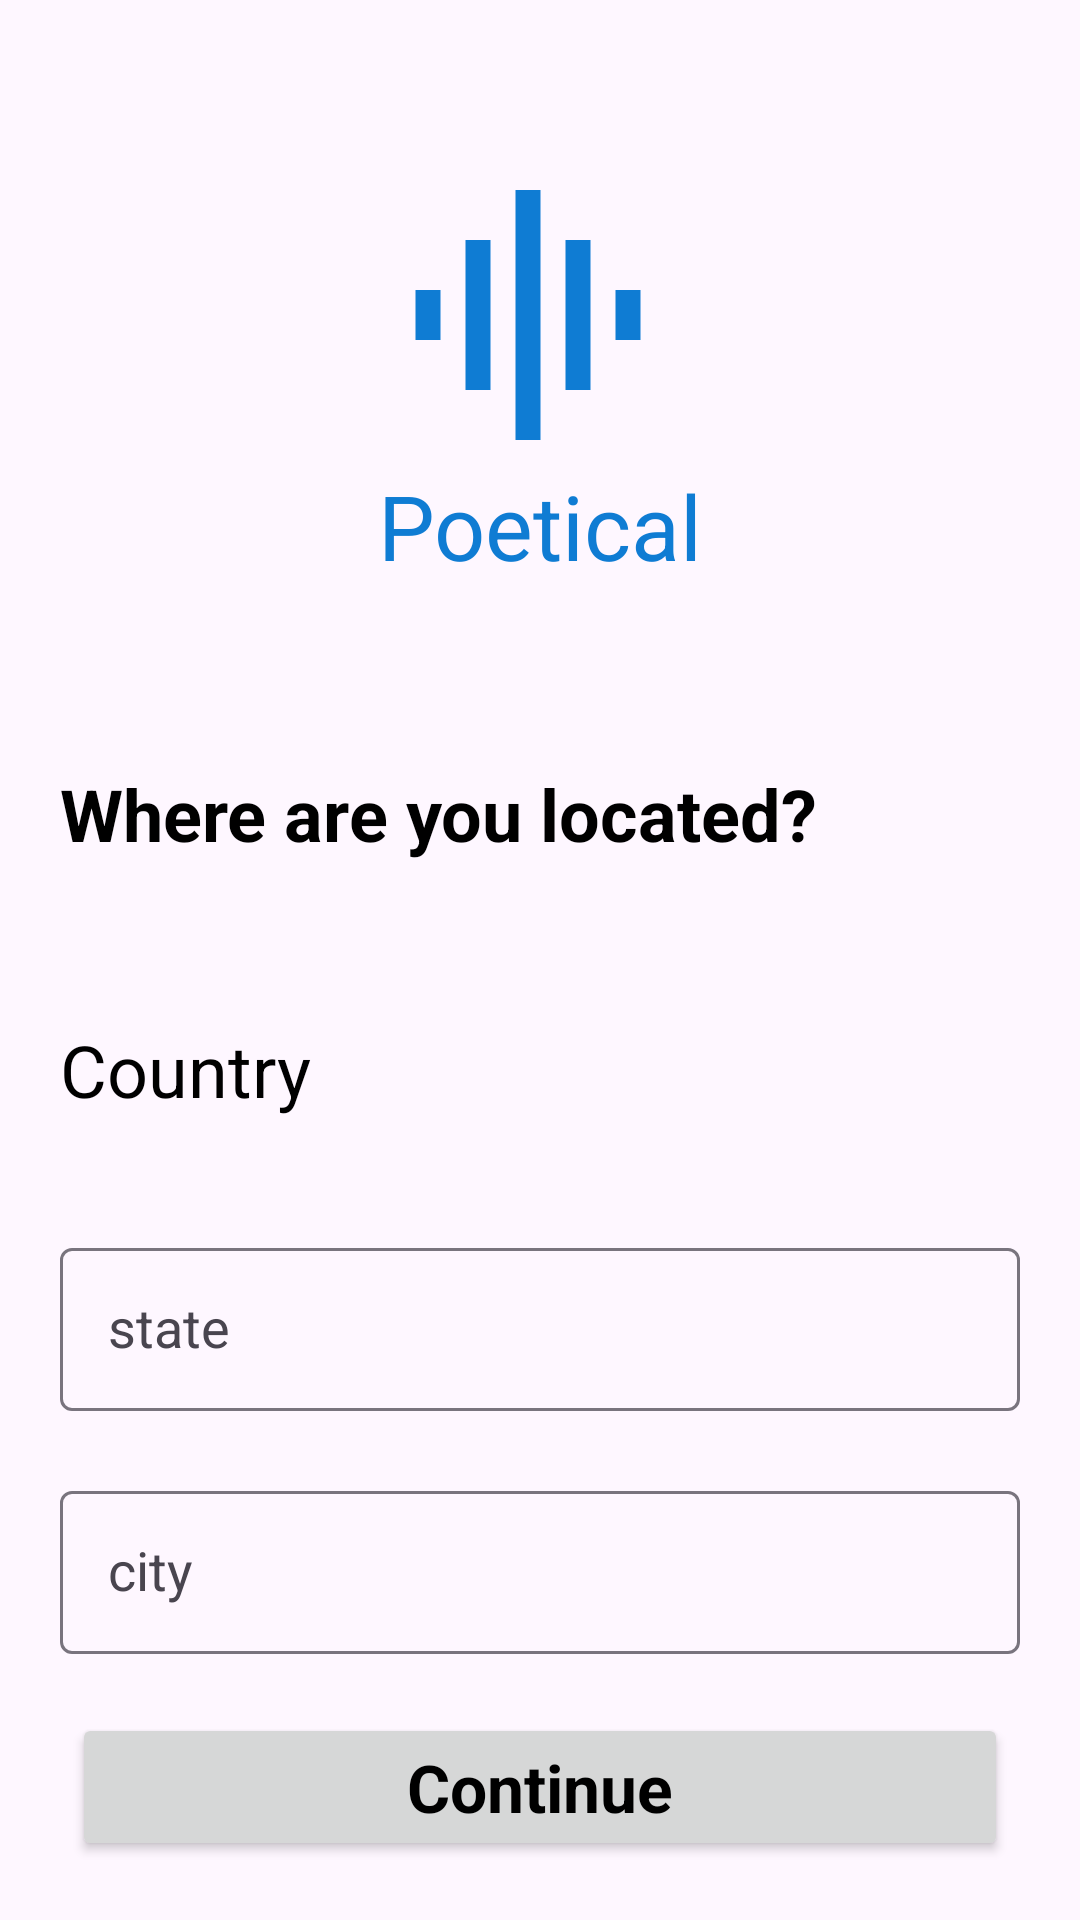

Named icons in this screenshot (1080px×1920px) and their centers, (x=x, y=y):
wave: (x=528, y=315)
